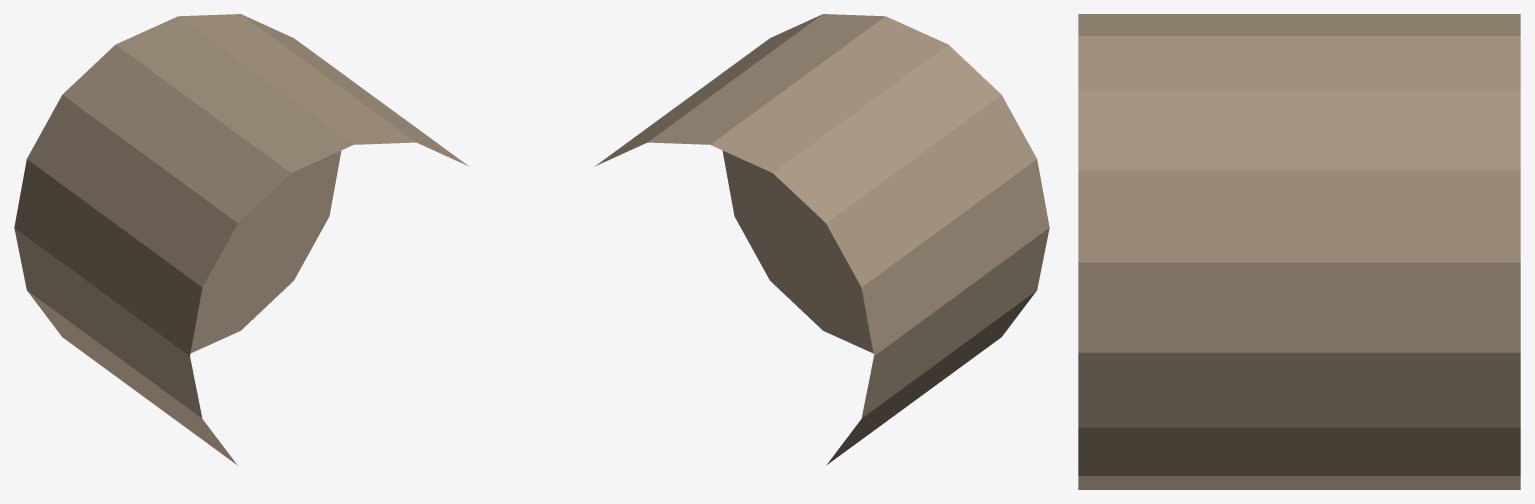
Rendered from hay_bale.glb.
The picture shows the model from 3 angles, left to right: view 1: azimuth 30°, elevation 25°; view 2: azimuth 150°, elevation 25°; view 3: azimuth 270°, elevation 25°; orthographic projection. The views are drawn at different scales.
Visible parts, largest first — view 1: world; view 2: world; view 3: world.
Part boxes in pixels (x1,y1,x2,y2): world: (14, 14, 468, 465); world: (595, 14, 1049, 465); world: (1078, 14, 1520, 489).
Size of the model in its own units: 1.4 by 1.4 by 1.3.
